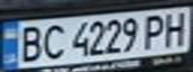2: (103, 16, 127, 55), (87, 17, 109, 56)
4: (66, 19, 90, 58)
9: (121, 14, 145, 53)
B: (12, 22, 48, 63)
C: (36, 21, 69, 61)
H: (157, 9, 193, 47)
P: (139, 11, 172, 50)
